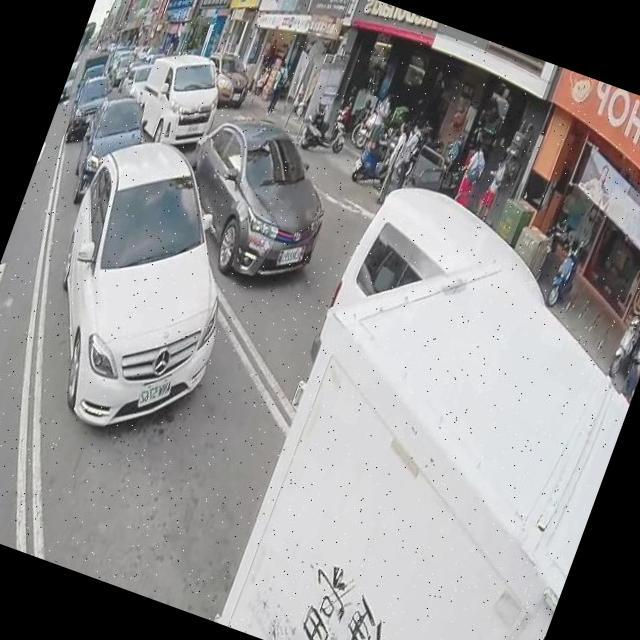person: (364, 111, 422, 213), (476, 142, 515, 220), (452, 140, 493, 210), (391, 124, 428, 192), (362, 91, 396, 154), (454, 120, 490, 177), (267, 64, 294, 118), (618, 343, 640, 400)
